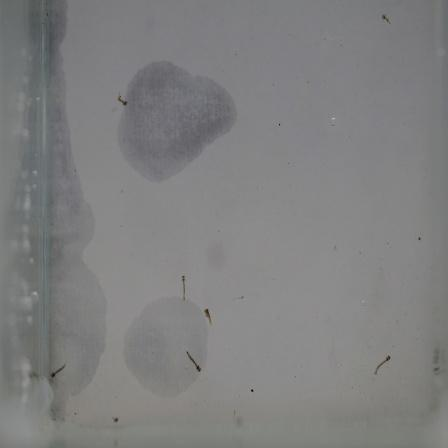Jentik-Nyamuk: (371, 351, 395, 381), (176, 273, 195, 306), (113, 89, 135, 113), (183, 349, 203, 375), (378, 9, 397, 33), (50, 363, 71, 383), (200, 304, 215, 329)
